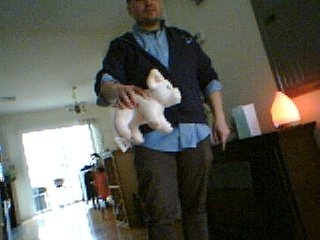piggy: (111, 67, 183, 146)
